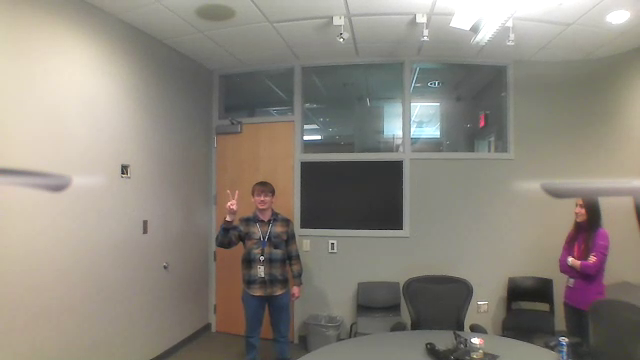peace: (221, 185, 245, 217)
